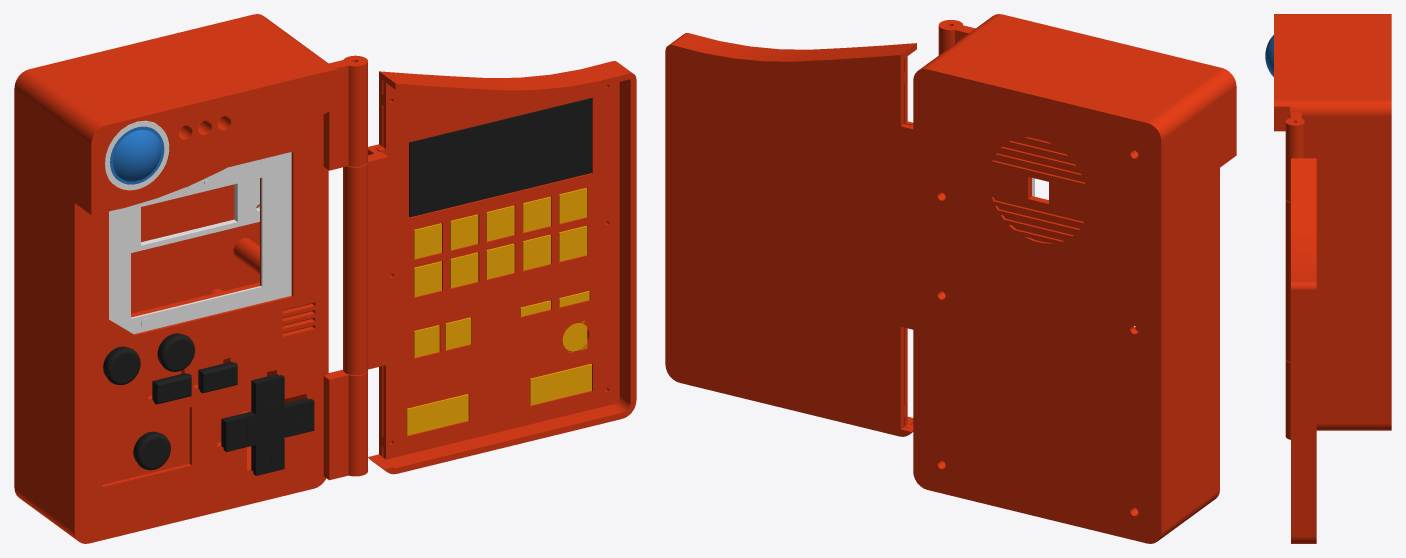
File: pokedex.obj
3 views of the same model, side by side, from view 1: azimuth 30°, elevation 25°; view 2: azimuth 150°, elevation 25°; view 3: azimuth 270°, elevation 25° (orthographic). The views are drawn at different scales.
Parts seen in each view (by area): view 1: LeftTub, LidFacePlate, RightLid, BackPlate, Dummy_Screen_R, ScreenBezel, Cap_DPad, Dome_Lens, LCDCrossPlate, DummyBtn_Wide_139, DummyBtn_Wide_190, Cap_Back (+16 smaller); view 2: BackPlate, RightLid, LeftTub; view 3: LeftTub, RightLid, BackPlate, Dome_Lens.
Boxes of the visible parts, x1,y1,x2,y2 form: LeftTub: (18, 17, 367, 543); LidFacePlate: (377, 81, 619, 460); RightLid: (343, 61, 636, 474); BackPlate: (14, 14, 267, 499); Dummy_Screen_R: (409, 98, 591, 217); ScreenBezel: (109, 152, 291, 334); Cap_DPad: (221, 374, 314, 475); Dome_Lens: (110, 126, 164, 184); LCDCrossPlate: (131, 178, 259, 252); DummyBtn_Wide_139: (406, 394, 468, 435); DummyBtn_Wide_190: (530, 364, 591, 405); Cap_Back: (157, 333, 194, 371); BackPlate: (913, 66, 1165, 543); RightLid: (665, 33, 916, 436); LeftTub: (922, 14, 1236, 537); LeftTub: (1274, 14, 1385, 439); RightLid: (1285, 158, 1316, 543); BackPlate: (1385, 14, 1391, 430); Dome_Lens: (1265, 35, 1273, 76).
Size of the model in its own units: 23 by 17 by 5.9.
